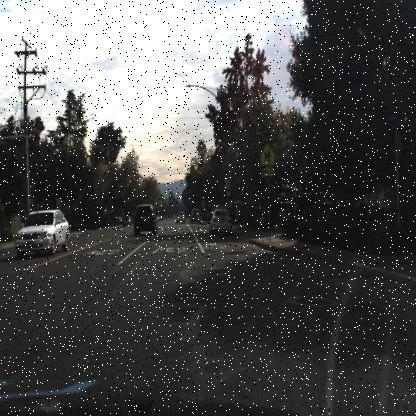car: (14, 208, 70, 256), (130, 200, 159, 240), (208, 206, 232, 235), (188, 205, 203, 226), (174, 208, 188, 228)
